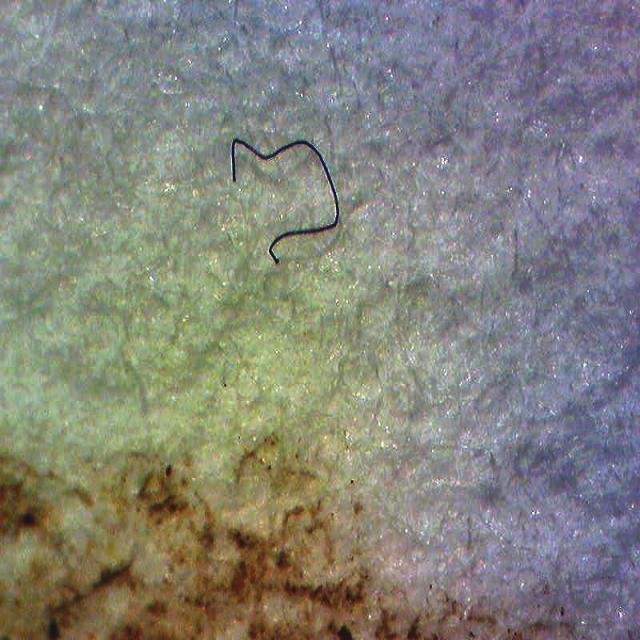microplastic: (232, 138, 340, 265)
